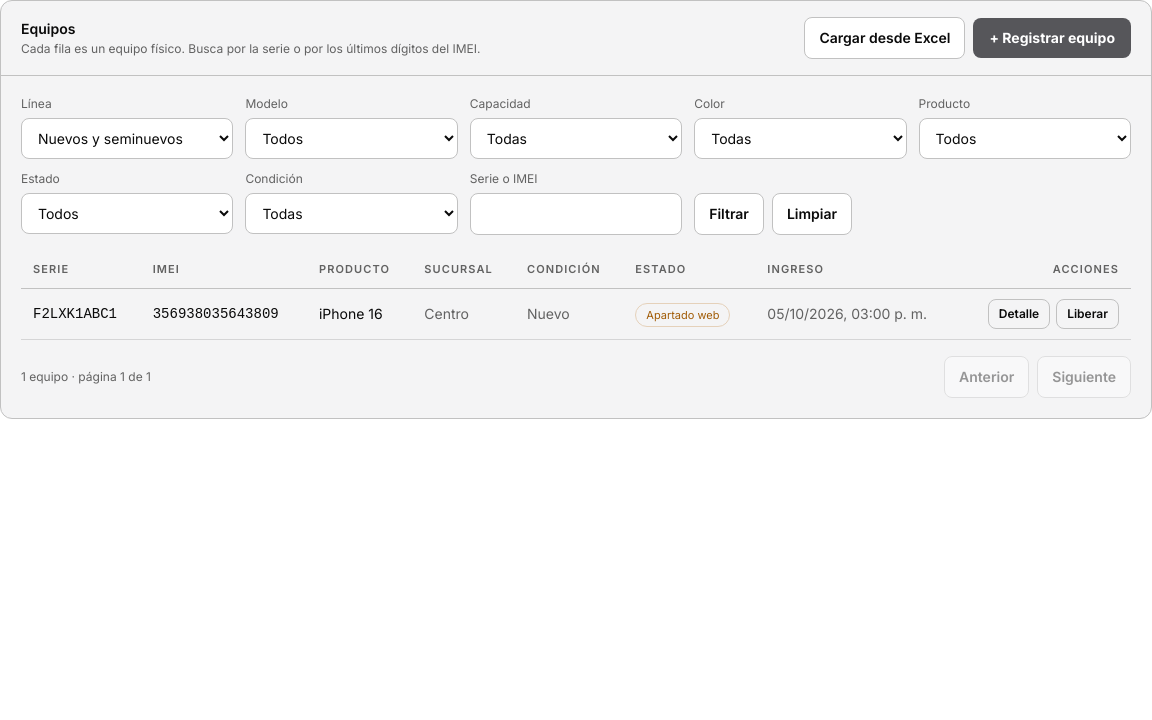
Test: the detail drawer shows the device, and its cost only to costs.view
expect the text "F2LXK1ABC1" is shown: met, box [33,306,117,322]
expect the text "Apartado web" is shown: met, box [635,302,730,326]
Click the button with aria-label "Detalle del equipo F2LXK1ABC1": {"x": 1019, "y": 314} [988,298,1050,328]
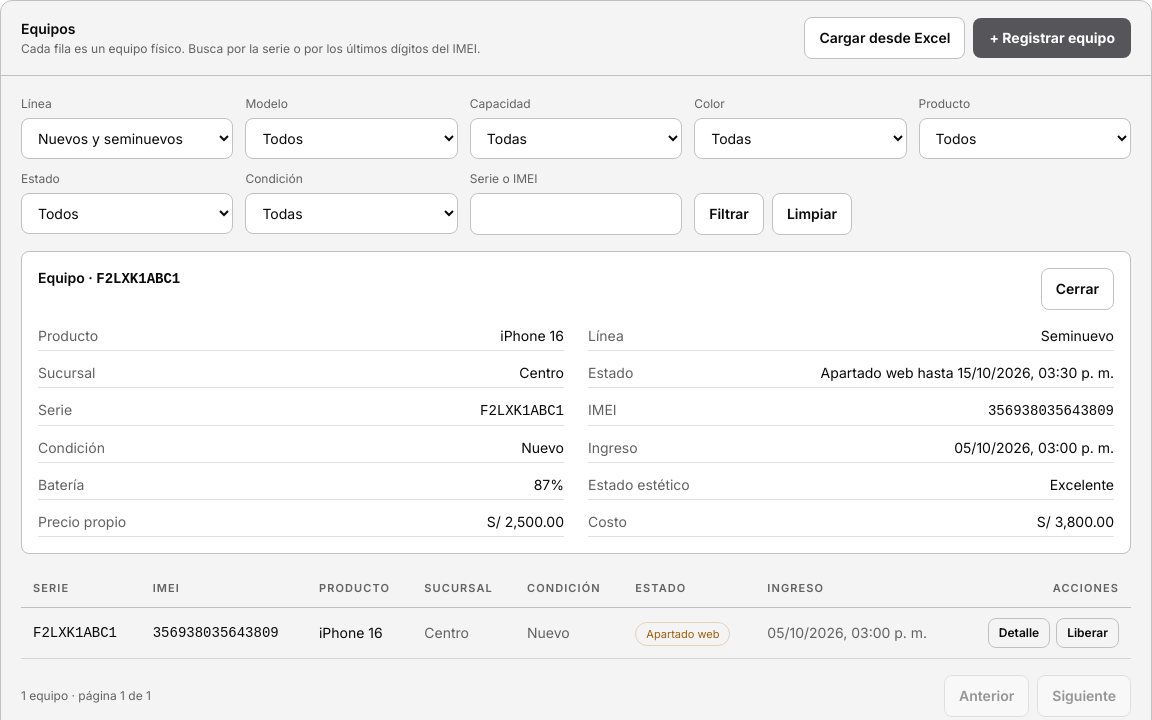
expect the text "87%" is shown: met, box [534,475,564,495]
expect the text "Excelente" is shown: met, box [1050,475,1114,495]
expect the text "Apartado web hasta 15/10/2026, 03:30 p. m." is shown: met, box [820,363,1114,383]
Click the button "Cerrar": {"x": 1077, "y": 289} [1041,268,1114,310]
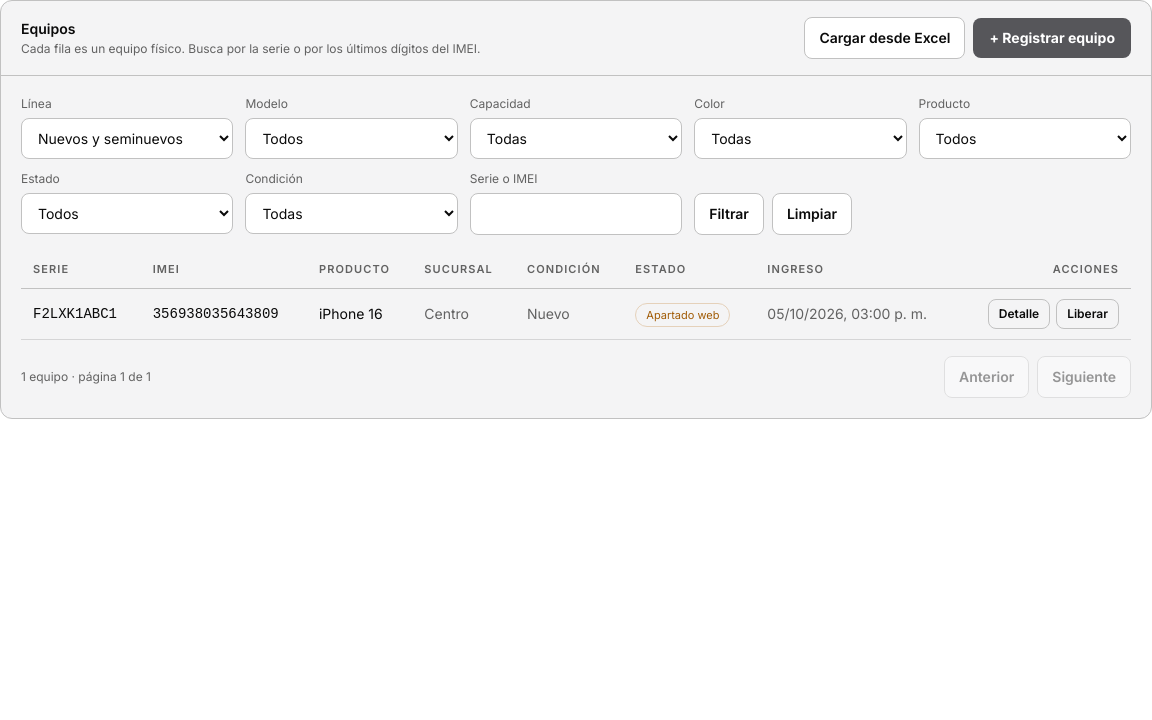
expect the dialog is gone: met
